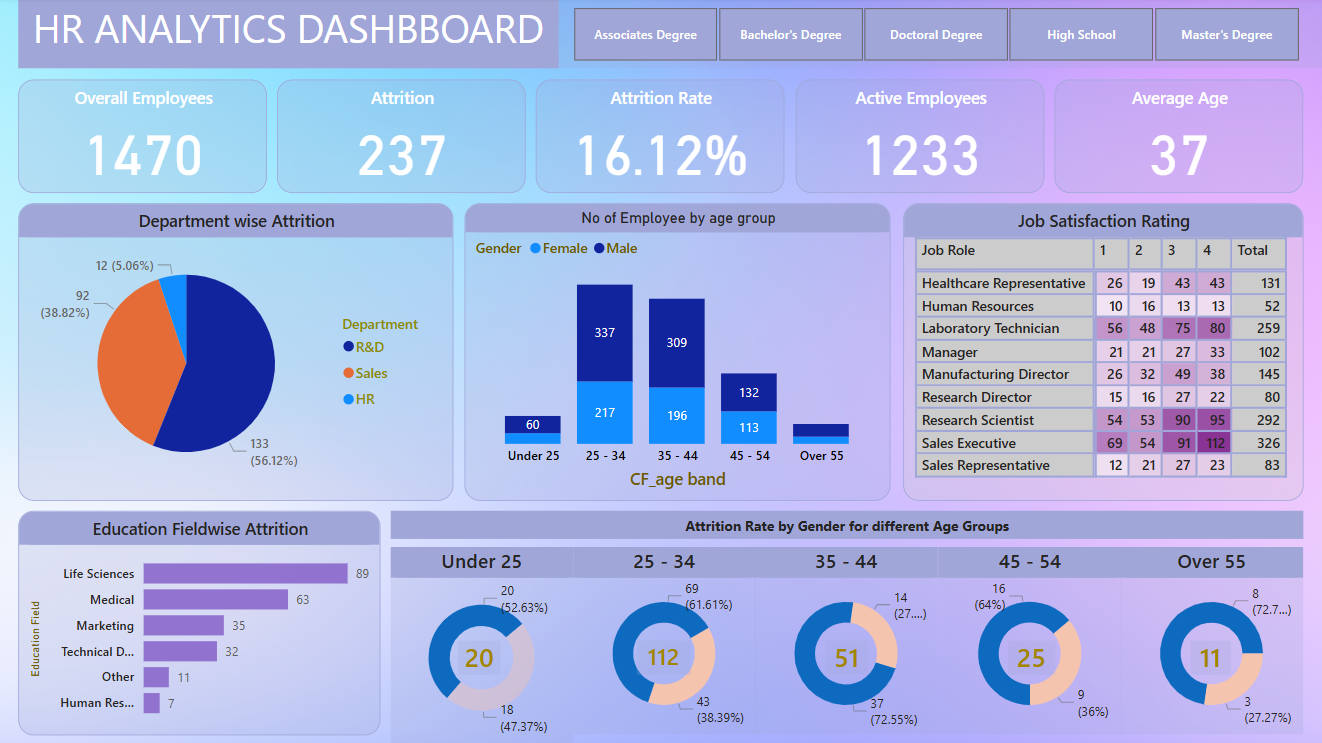

What the dashboard file says about the page in this screenshot:
{"tool":"powerbi","page":{"name":"Page 1","canvas":[1280,720],"ordinal":0},"visuals":[{"type":"card","title":"Overall Employees","fields":{"Values":["Sum(HR data.Employee Count)"]},"box":[20.6,79.6,240.1,109.8],"z":0},{"type":"card","title":"Attrition","fields":{"Values":["Sum(HR data.Attrition count)"]},"box":[270.3,79.6,240.1,109.8],"z":1000},{"type":"card","title":"Attrition Rate","fields":{"Values":["HR data.Attrition rate"]},"box":[520.1,79.6,240.1,109.8],"z":2000},{"type":"card","title":"Active Employees","fields":{"Values":["HR data.Active Employees"]},"box":[771.2,79.6,240.1,109.8],"z":3000},{"type":"card","title":"Average Age","fields":{"Values":["Avg(HR data.Age)"]},"box":[1020.9,79.6,240.1,109.8],"z":4000},{"type":"pieChart","title":"Department wise Attrition","fields":{"Category":["HR data.Department"],"Y":["Sum(HR data.Attrition count)"]},"box":[20.5,199.1,419.8,287.1],"z":5000},{"type":"columnChart","title":"No of Employee by age group","fields":{"Category":["HR data.CF_age band"],"Y":["Sum(HR data.Employee Count)"],"Series":["HR data.Gender"]},"box":[451.2,199.1,411.4,287.1],"z":6000},{"type":"pivotTable","title":"Job Satisfaction Rating","fields":{"Rows":["HR data.Job Role"],"Columns":["HR data.Job Satisfaction"],"Values":["Sum(HR data.Employee Count)"]},"box":[874.7,199.1,386.1,287.1],"z":7000},{"type":"barChart","title":"Education Fieldwise Attrition","fields":{"Category":["HR data.Education Field"],"Y":["Sum(HR data.Attrition count)"]},"box":[20.6,495.4,349.9,216.8],"z":8000},{"type":"donutChart","title":"Under 25","fields":{"Category":["HR data.Gender"],"Y":["Sum(HR data.Attrition count)"],"Series":["HR data.CF_age band"]},"box":[380.1,531,175.6,189.4],"z":9000},{"type":"textbox","box":[380.1,495.4,881,27.4],"z":10000},{"type":"donutChart","title":"35 - 44","fields":{"Category":["HR data.Gender"],"Y":["Sum(HR data.Attrition count)"],"Series":["HR data.CF_age band"]},"box":[731.4,531,177,181.1],"z":11000},{"type":"donutChart","title":"45 - 54","fields":{"Category":["HR data.Gender"],"Y":["Sum(HR data.Attrition count)"],"Series":["HR data.CF_age band"]},"box":[908.4,531,177,181.1],"z":12000},{"type":"donutChart","title":"Over 55","fields":{"Category":["HR data.Gender"],"Y":["Sum(HR data.Attrition count)"],"Series":["HR data.CF_age band"]},"box":[1084.1,531,175.6,181.1],"z":13000},{"type":"donutChart","title":"25 - 34","fields":{"Category":["HR data.Gender"],"Y":["Sum(HR data.Attrition count)"],"Series":["HR data.CF_age band"]},"box":[555.7,531,175.6,181.1],"z":14000},{"type":"card","fields":{"Values":["Sum(HR data.Attrition count)"]},"box":[444.6,621.6,41.2,32.9],"z":15000},{"type":"card","fields":{"Values":["Sum(HR data.Attrition count)"]},"box":[617.5,621.6,52.1,32.9],"z":16000},{"type":"card","fields":{"Values":["Sum(HR data.Attrition count)"]},"box":[800,621.6,41.2,32.9],"z":17000},{"type":"card","fields":{"Values":["Sum(HR data.Attrition count)"]},"box":[975.6,621.6,45.3,32.9],"z":18000},{"type":"card","fields":{"Values":["Sum(HR data.Attrition count)"]},"box":[1152.7,621.6,38.4,32.9],"z":19000},{"type":"textbox","box":[20.6,0,521.4,68.6],"z":20000},{"type":"slicer","fields":{"Values":["HR data.Education"]},"box":[531,4.1,749.2,64.5],"z":21000}]}

Visuals, with their boxes in screenshot pixels (x1, y1, x2, y2), scaled from the page's 1280x720 canvas onto the 1322x743 screenshot:
"Overall Employees" card: (21,82,269,195)
"Attrition" card: (279,82,527,195)
"Attrition Rate" card: (537,82,785,195)
"Active Employees" card: (797,82,1044,195)
"Average Age" card: (1054,82,1302,195)
"Department wise Attrition" pieChart: (21,205,455,502)
"No of Employee by age group" columnChart: (466,205,891,502)
"Job Satisfaction Rating" pivotTable: (903,205,1302,502)
"Education Fieldwise Attrition" barChart: (21,511,383,735)
"Under 25" donutChart: (393,548,574,742)
textbox: (393,511,1302,540)
"35 - 44" donutChart: (755,548,938,735)
"45 - 54" donutChart: (938,548,1121,735)
"Over 55" donutChart: (1120,548,1301,735)
"25 - 34" donutChart: (574,548,755,735)
card - Sum(HR data.Attrition count): (459,641,502,675)
card - Sum(HR data.Attrition count): (638,641,692,675)
card - Sum(HR data.Attrition count): (826,641,869,675)
card - Sum(HR data.Attrition count): (1008,641,1054,675)
card - Sum(HR data.Attrition count): (1191,641,1230,675)
textbox: (21,0,560,71)
slicer - HR data.Education: (548,4,1321,71)
